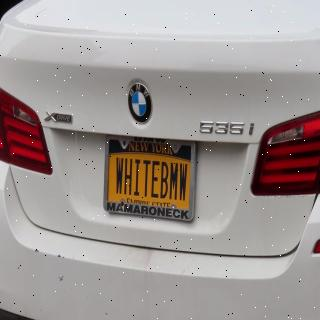license: (104, 135, 198, 224)
